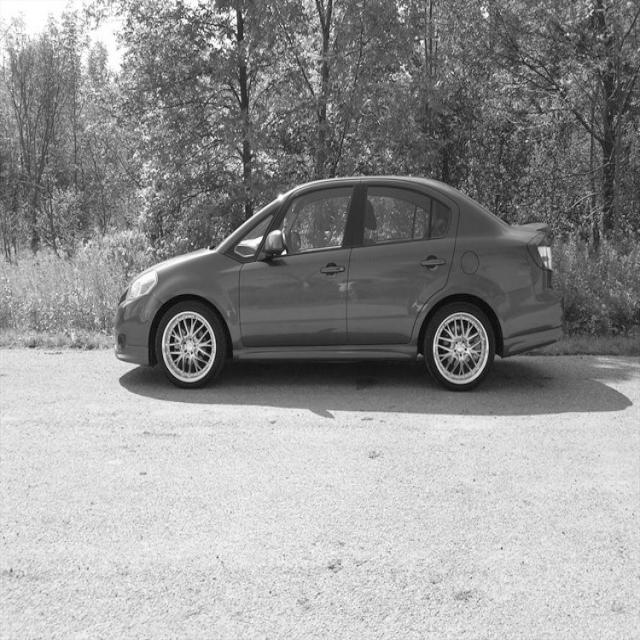car: (113, 174, 565, 392)
